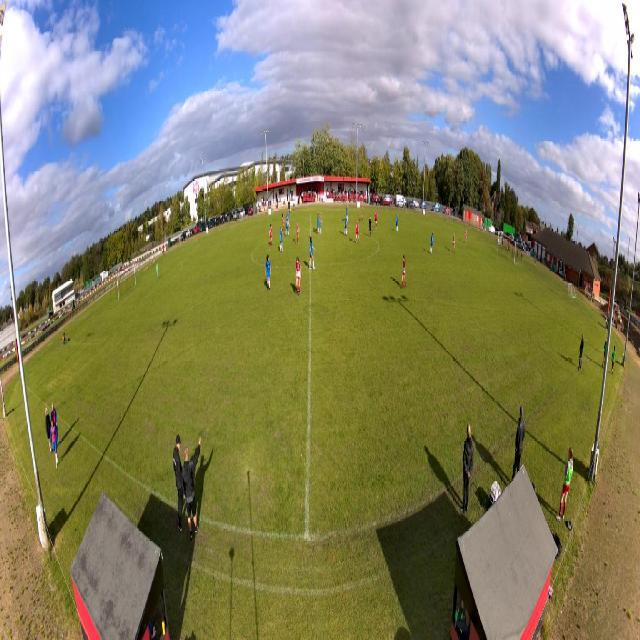ball: (464, 233, 466, 237)
player: (309, 235, 316, 271), (296, 256, 302, 297), (266, 254, 272, 292), (401, 254, 407, 289), (295, 219, 300, 244), (279, 226, 283, 254), (355, 219, 359, 245), (269, 223, 273, 247), (344, 213, 348, 237), (430, 232, 434, 256), (368, 214, 372, 238), (285, 215, 289, 237), (374, 209, 378, 230), (452, 233, 456, 254), (395, 213, 399, 233), (156, 261, 160, 281), (317, 213, 320, 235), (346, 204, 349, 223), (287, 211, 290, 229), (282, 212, 285, 230), (361, 205, 364, 223), (464, 228, 467, 244)
